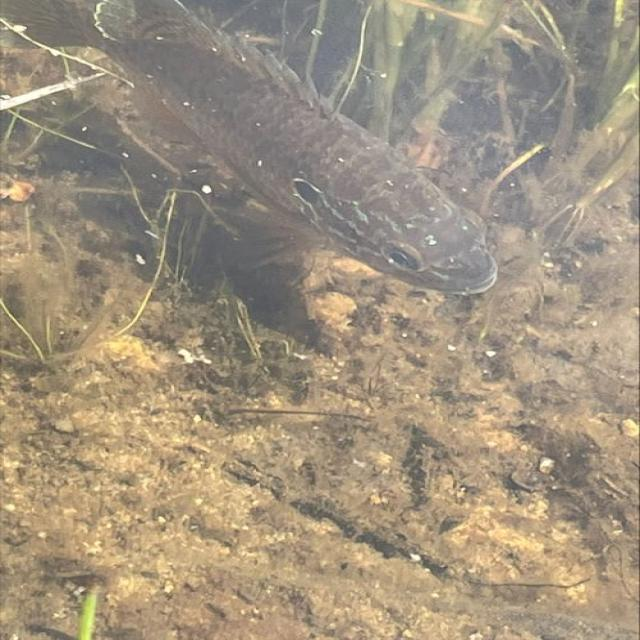Gunes Levregi: (6, 5, 510, 302)
